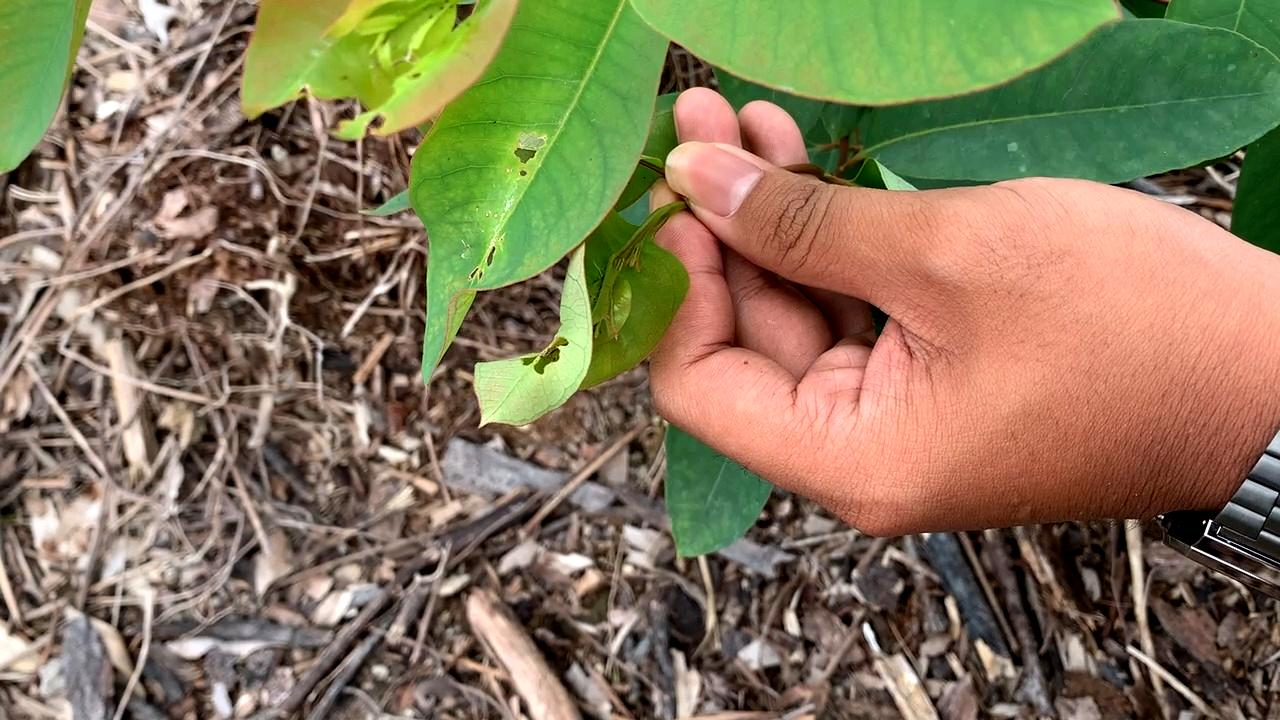Leaf Roller - Leaf: (466, 232, 655, 442)
